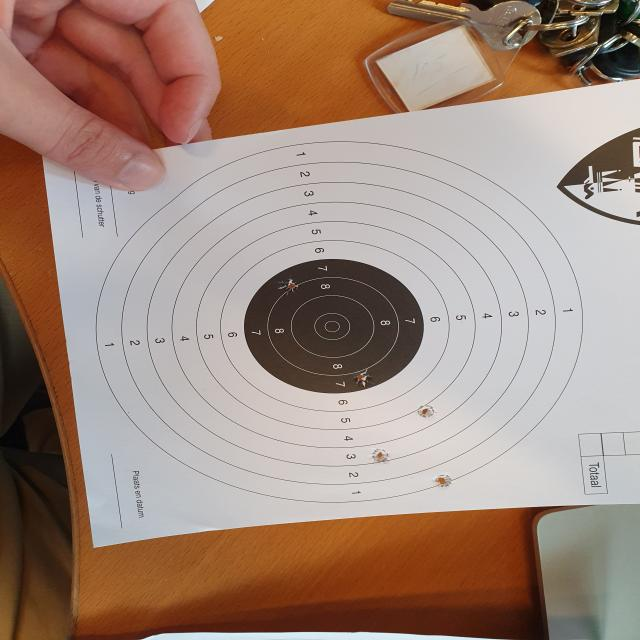1: (432, 472, 455, 488)
3: (368, 447, 392, 465)
5: (414, 404, 439, 421)
7: (353, 368, 375, 388)
8: (276, 275, 300, 296)
Target: (93, 141, 585, 502)
black_contour: (244, 258, 425, 393)
